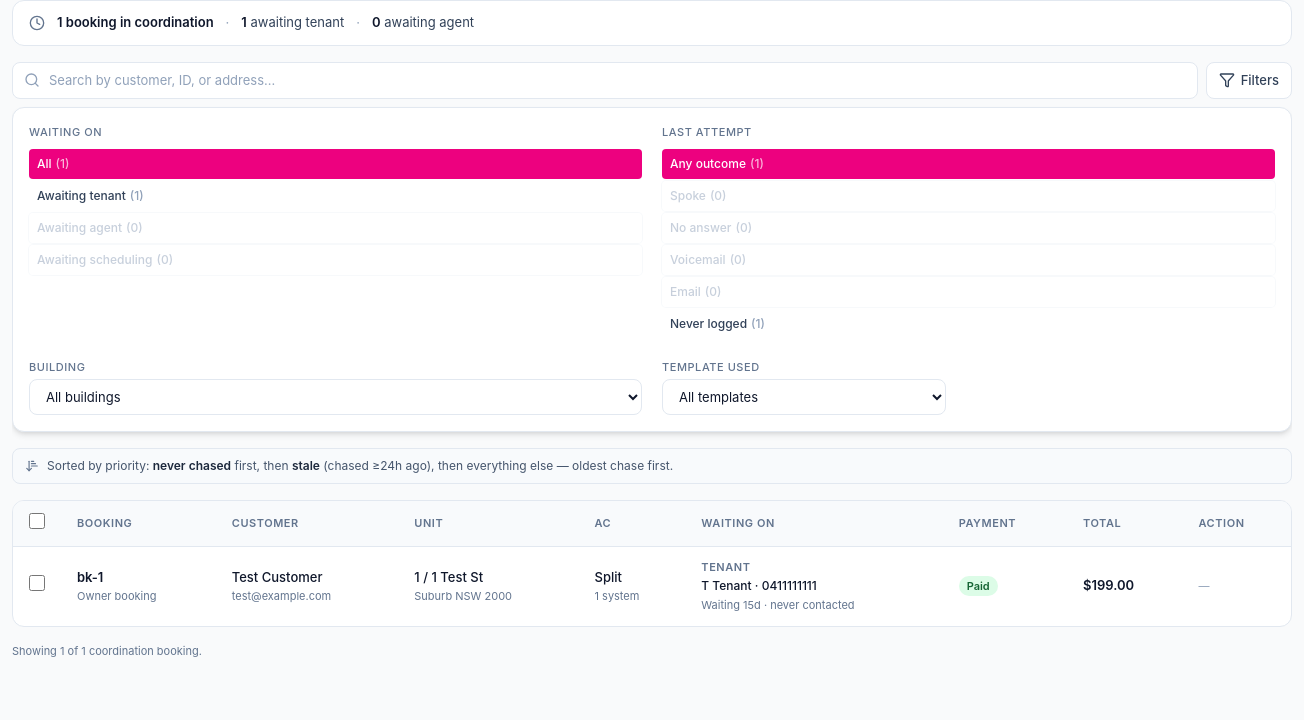
Scenario: AwaitingCoordinationView · bulk-action default-template hint › when both channels have a default, the hint names both
What coordinates should you click on to do the following:
click the checkbox with test id "checkbox-coordination-row-bk-1"
I would click on:
 (37, 583)
Its box is [29, 575, 45, 591].
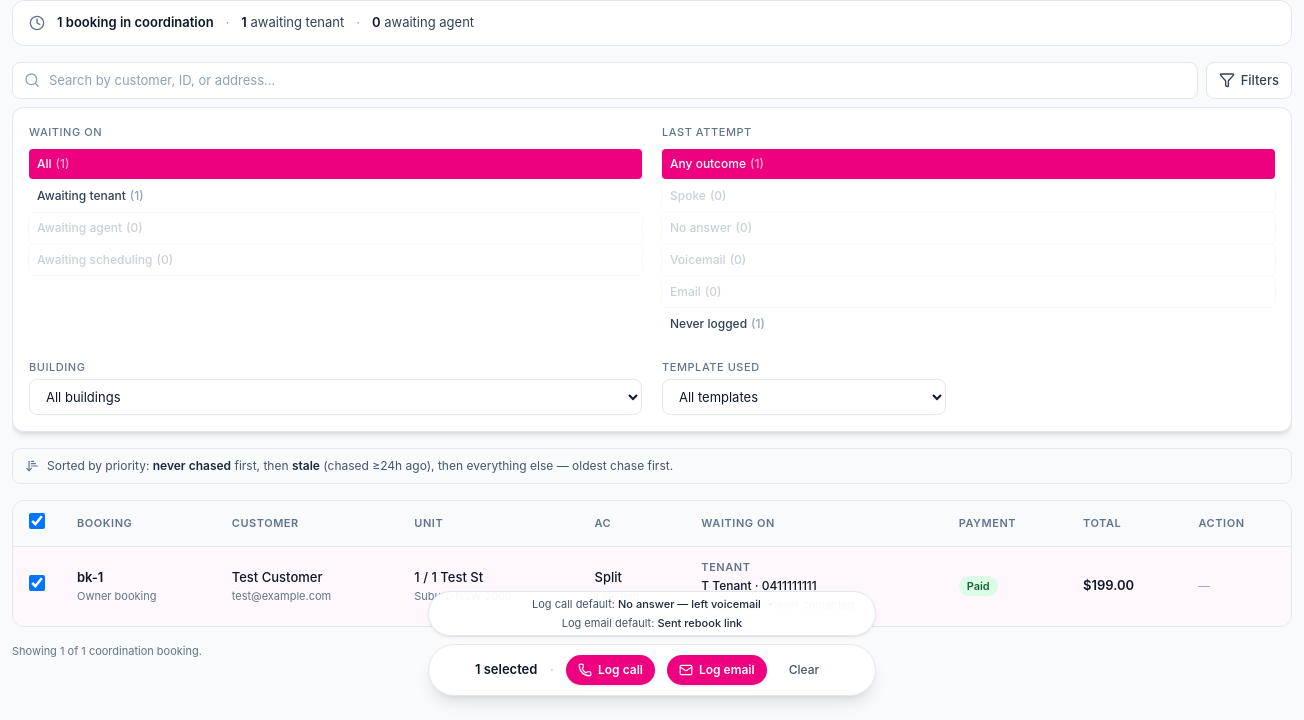
Now the element with test id "bulk-action-bar-default-call" shows "No answer — left voicemail", box [618, 597, 761, 611]
Now the element with test id "bulk-action-bar-default-email" shows "Sent rebook link", box [657, 616, 742, 630]
